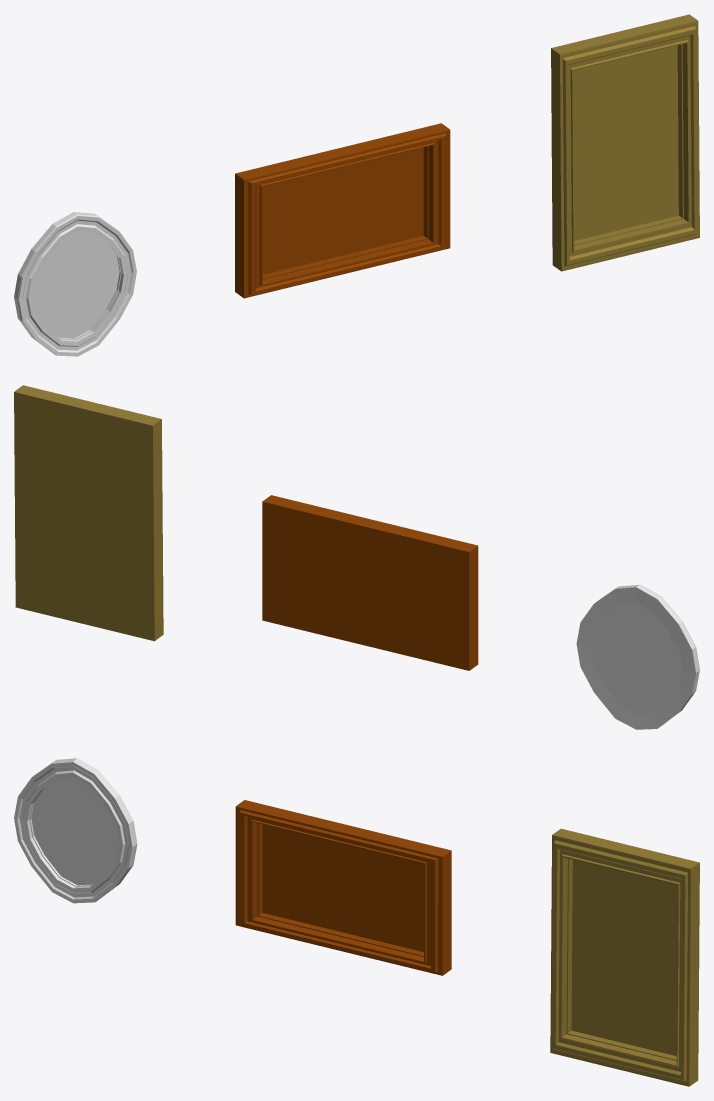
File: SC_Recuadros.fbx
3 renders of one model, top to bottom at view 1: azimuth 30°, elevation 25°; view 2: azimuth 150°, elevation 25°; view 3: azimuth 330°, elevation 25°, orthographic.
Parts seen in each view (by area): view 1: SC_Frame_003, SC_Frame_002, SC_Frame_001; view 2: SC_Frame_003, SC_Frame_002, SC_Frame_001; view 3: SC_Frame_003, SC_Frame_002, SC_Frame_001.
Part boxes in pixels (x1,y1,x2,y2): SC_Frame_003: (551,14,699,271); SC_Frame_002: (235,123,450,298); SC_Frame_001: (14,212,136,356); SC_Frame_003: (14,385,163,641); SC_Frame_002: (262,495,478,670); SC_Frame_001: (576,584,699,729); SC_Frame_003: (550,828,699,1086); SC_Frame_002: (235,800,451,975); SC_Frame_001: (14,758,137,903).
Size of the model in its own units: 492 by 150 by 15.55.
Materials: 3 (2 with a texture image).
